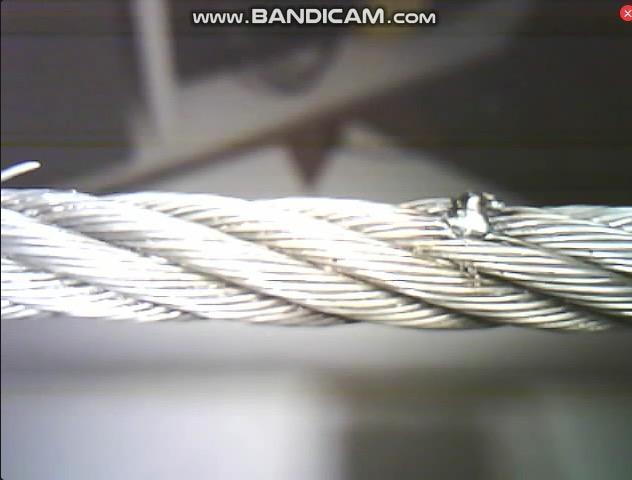thunderbolt: (435, 175, 496, 246)
